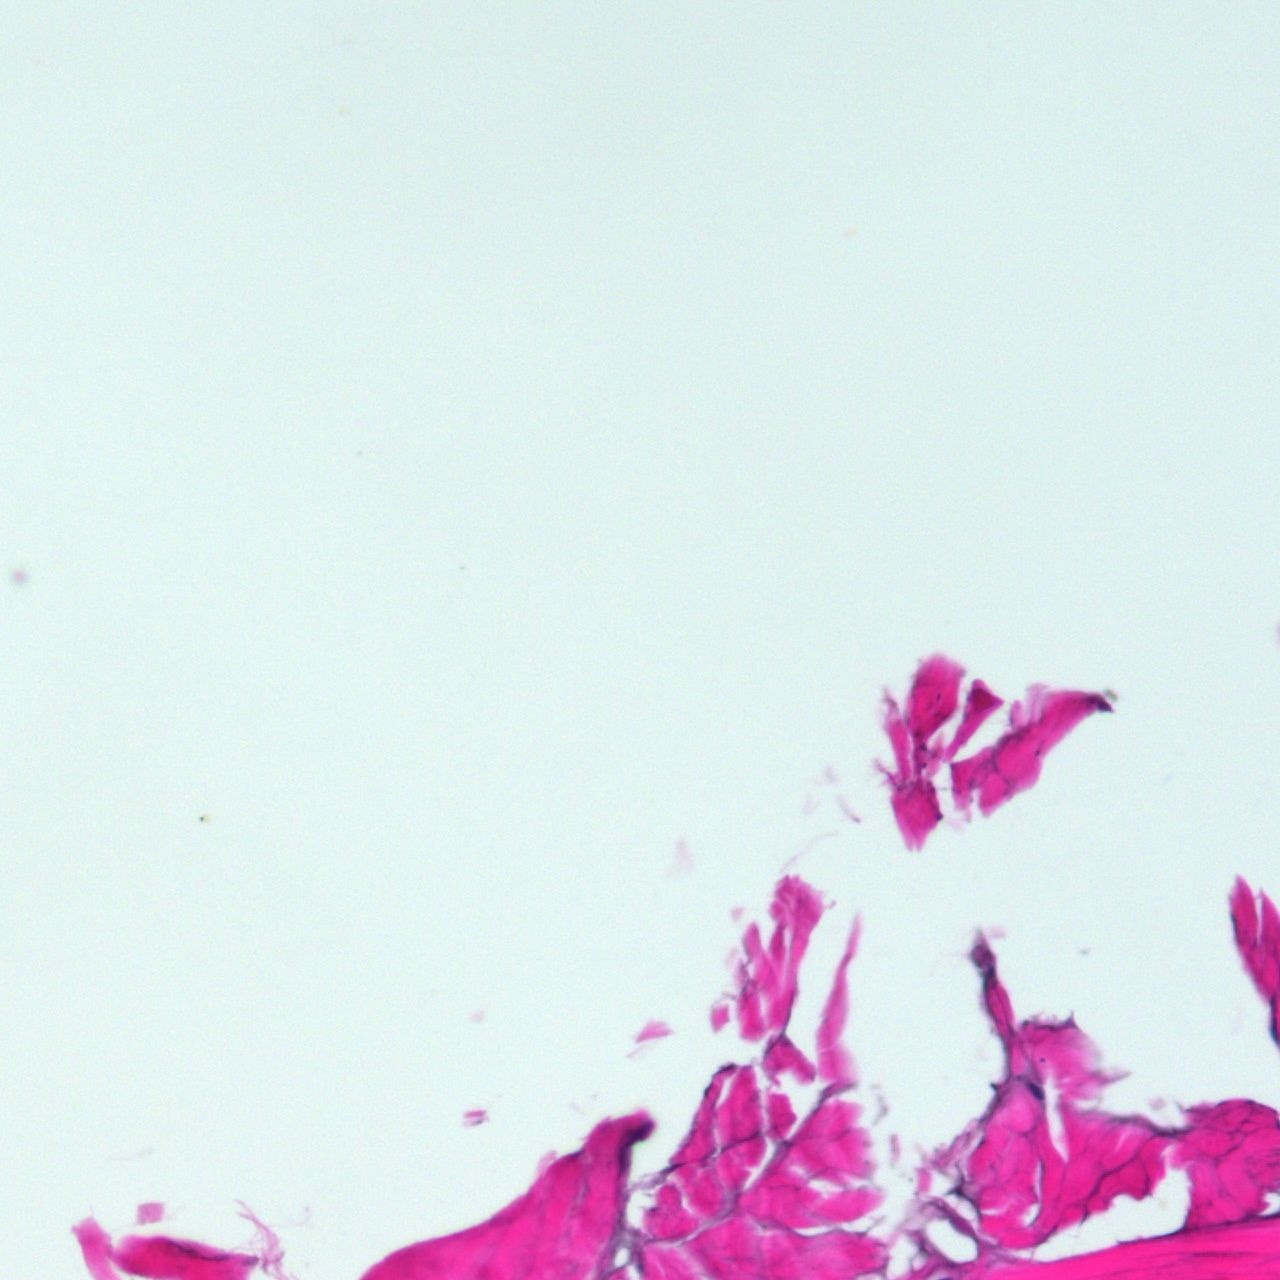dust: (11, 568, 26, 585), (840, 227, 856, 239), (200, 813, 209, 823)
nucleus-HE: (1024, 1080, 1049, 1103)
